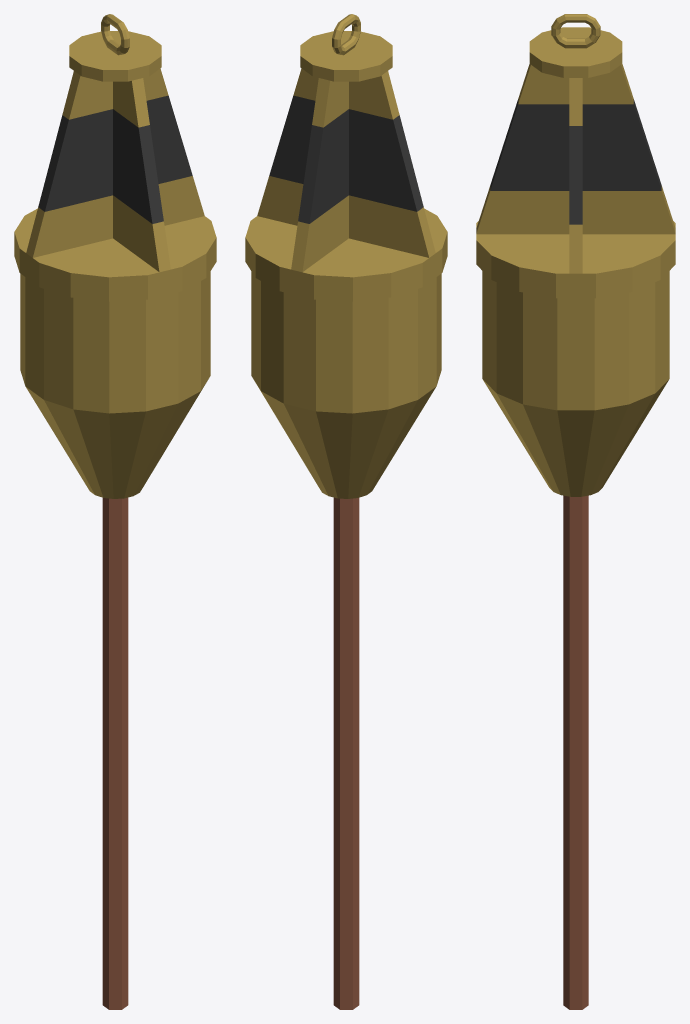
The model's file is YellowMetalMechSmallDangerBouy1.fbx.
The picture shows the model from 3 angles, left to right: view 1: azimuth 30°, elevation 25°; view 2: azimuth 150°, elevation 25°; view 3: azimuth 270°, elevation 25°; orthographic projection.
Visible parts, largest first — view 1: YellowMetalMechSmallDangerBouy1, BuoyPart.009, BuoyPart.008, BuoyRope.011, BuoyRope.012, BuoyRope.010, BuoyPart.010, BuoyPart.011; view 2: YellowMetalMechSmallDangerBouy1, BuoyPart.009, BuoyPart.008, BuoyRope.011, BuoyRope.012, BuoyRope.010, BuoyPart.010, BuoyPart.011; view 3: YellowMetalMechSmallDangerBouy1, BuoyPart.008, BuoyRope.011, BuoyRope.012, BuoyRope.010, BuoyPart.010, BuoyPart.009, BuoyPart.011.
Part boxes in pixels (x1,y1,x2,y2): YellowMetalMechSmallDangerBouy1: (14,208,216,498); BuoyPart.009: (26,68,204,257); BuoyPart.008: (113,78,170,272); BuoyRope.011: (102,660,128,837); BuoyRope.012: (102,833,128,1009); BuoyRope.010: (102,497,128,664); BuoyPart.010: (69,31,161,81); BuoyPart.011: (101,14,129,55); YellowMetalMechSmallDangerBouy1: (245,208,447,498); BuoyPart.009: (257,68,435,257); BuoyPart.008: (291,78,348,272); BuoyRope.011: (333,660,359,837); BuoyRope.012: (333,833,359,1009); BuoyRope.010: (333,497,359,664); BuoyPart.010: (300,31,392,81); BuoyPart.011: (332,14,360,55); YellowMetalMechSmallDangerBouy1: (476,221,675,496); BuoyPart.008: (476,64,675,234); BuoyRope.011: (563,659,588,836); BuoyRope.012: (563,832,588,1009); BuoyRope.010: (563,495,588,663); BuoyPart.010: (529,27,622,77); BuoyPart.009: (569,78,582,273); BuoyPart.011: (551,14,600,48).
Bounding box in the file's own units: 313 × 1716 × 313.
Materials: 3 (2 with a texture image).
